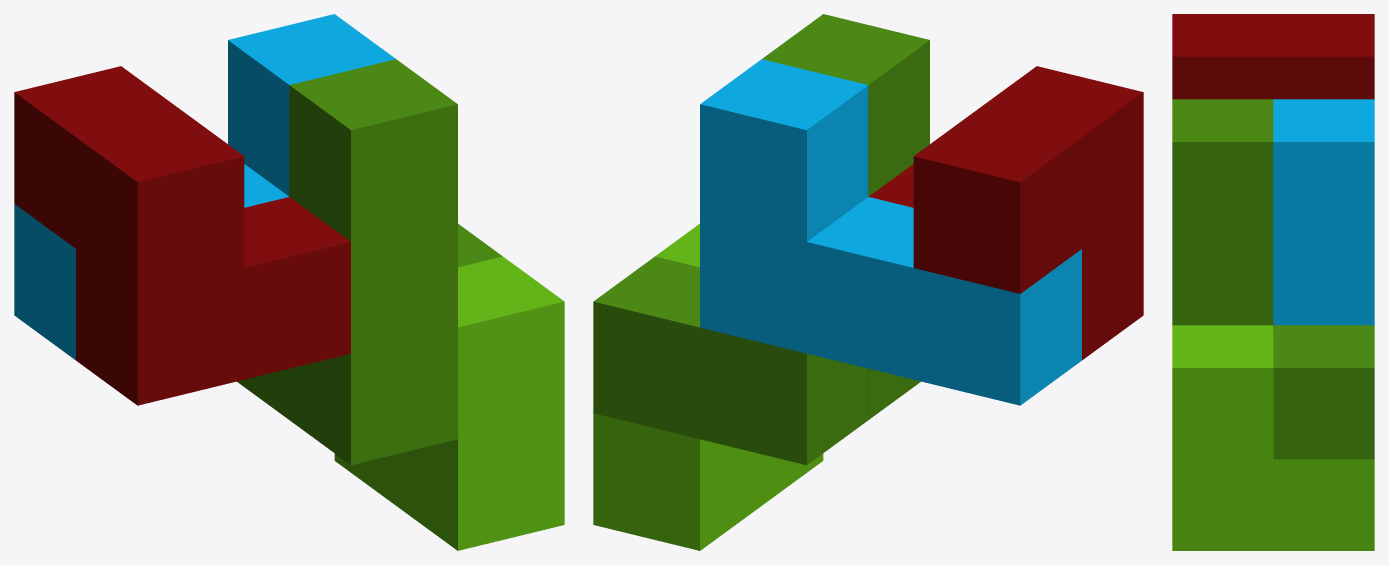
The picture shows the model from 3 angles, left to right: view 1: azimuth 30°, elevation 25°; view 2: azimuth 150°, elevation 25°; view 3: azimuth 270°, elevation 25°; orthographic projection. The views are drawn at different scales.
Visible parts, largest first — view 1: mergedBlocks(Clone); view 2: mergedBlocks(Clone); view 3: mergedBlocks(Clone).
Boxes of the visible parts, x1,y1,x2,y2 form: mergedBlocks(Clone): (14, 14, 564, 550); mergedBlocks(Clone): (593, 14, 1143, 550); mergedBlocks(Clone): (1172, 14, 1374, 550).
Bounding box in the file's own units: 4 × 4 × 2.
Materials: 4 (4 with a texture image).
